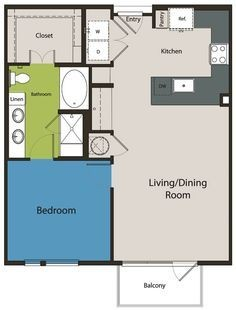door: (30, 130, 57, 167), (29, 43, 60, 69), (120, 9, 147, 38), (172, 256, 199, 284), (109, 132, 130, 164)
room: (115, 105, 236, 266), (85, 2, 234, 132), (1, 159, 119, 269), (1, 63, 92, 161), (3, 3, 91, 67)
wall: (1, 2, 12, 265), (225, 4, 235, 268), (5, 2, 115, 19), (107, 185, 121, 261), (152, 2, 234, 14), (56, 152, 117, 167), (86, 67, 96, 132), (56, 60, 114, 70), (80, 5, 89, 63), (79, 258, 124, 269), (197, 257, 234, 270), (57, 106, 95, 117), (92, 81, 116, 91), (8, 59, 33, 68), (7, 153, 32, 162), (219, 93, 232, 110), (86, 128, 115, 135)
window: (121, 255, 197, 276), (22, 254, 79, 271), (113, 1, 152, 12)
